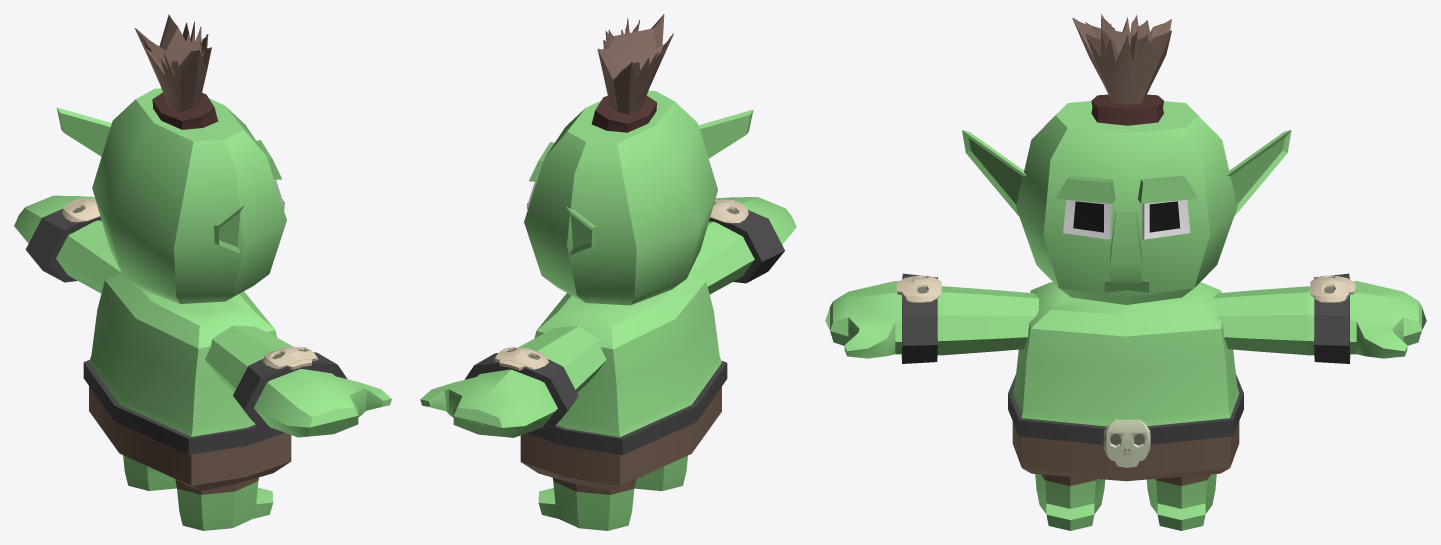
File: Goblin1.fbx
3 renders of one model, left to right at view 1: azimuth 30°, elevation 25°; view 2: azimuth 150°, elevation 25°; view 3: azimuth 270°, elevation 25°, orthographic. The views are drawn at different scales.
Visible parts, largest first — view 1: Plane.001; view 2: Plane.001; view 3: Plane.001.
Part boxes in pixels (x1,y1,x2,y2): Plane.001: [14, 14, 391, 530]; Plane.001: [420, 14, 796, 530]; Plane.001: [825, 14, 1426, 530].
Size of the model in its own units: 436 by 1174 by 1335.
